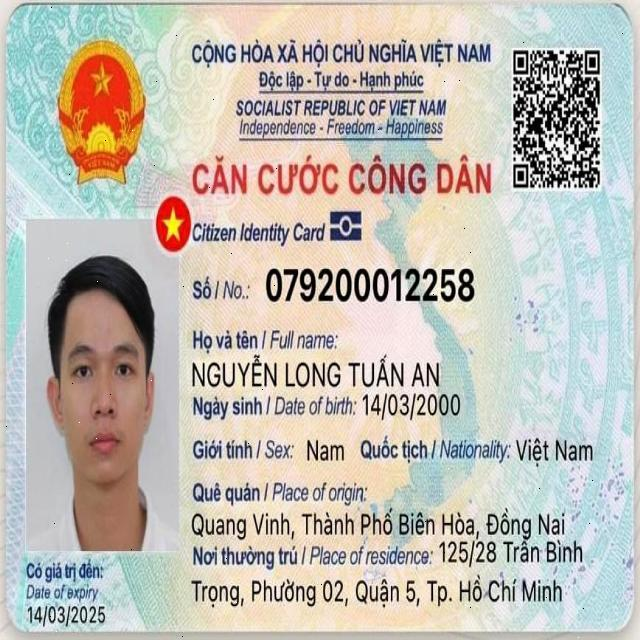current_place: (190, 571, 568, 613), (439, 536, 589, 571)
dob: (361, 388, 463, 421)
expire_date: (24, 603, 108, 627)
gender: (303, 435, 346, 467)
id: (262, 260, 478, 314)
name: (189, 350, 444, 392)
nationality: (513, 433, 596, 472)
origin_place: (189, 504, 573, 541)
